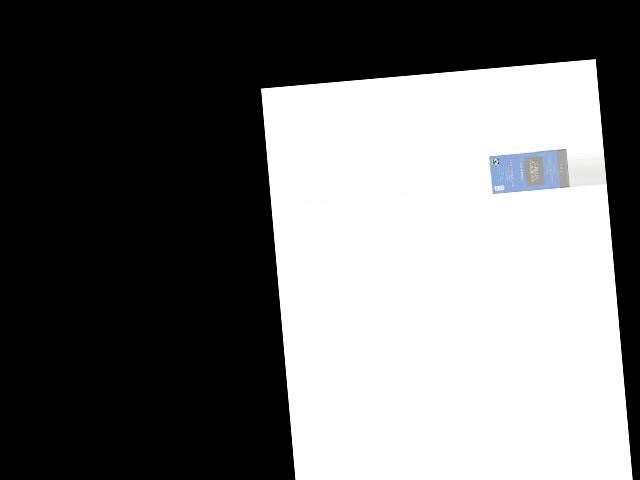chocolate: (490, 148, 569, 194)
